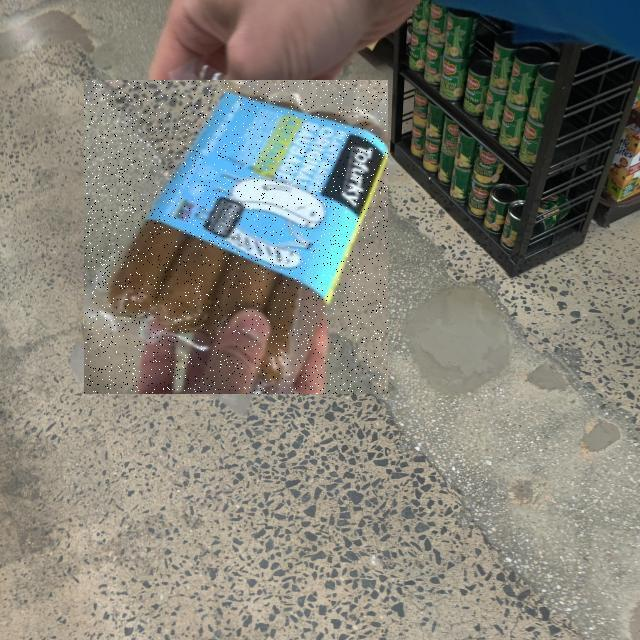Meat: (85, 80, 389, 394)
